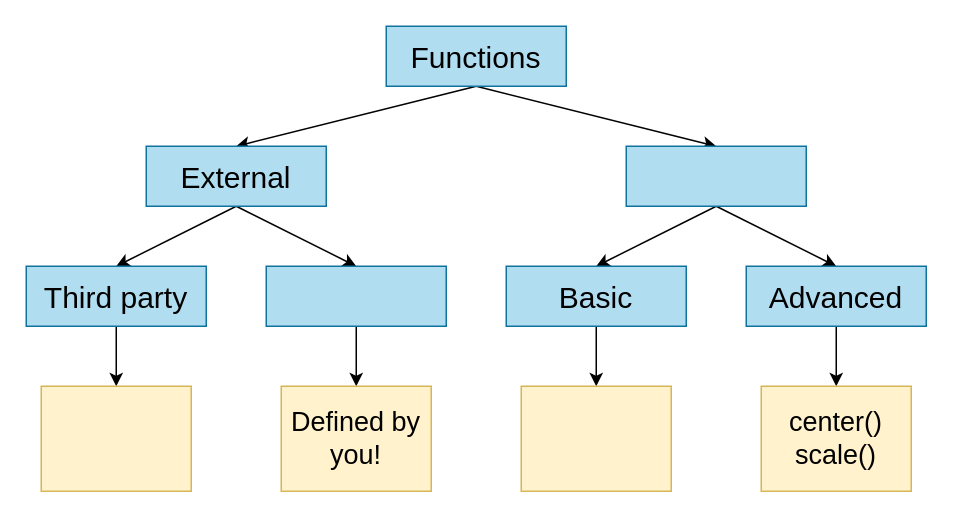
Image size: 953x518. Some labels were removed from this diagram. The shapes that lost their labels are listed below. From the top down, each one's centre as x and y in pixels, then its label:
pixel 715 175: Built-in
pixel 355 295: User defined
pixel 115 438: NumPy SciPy ...
pixel 595 438: log() exp() ...
